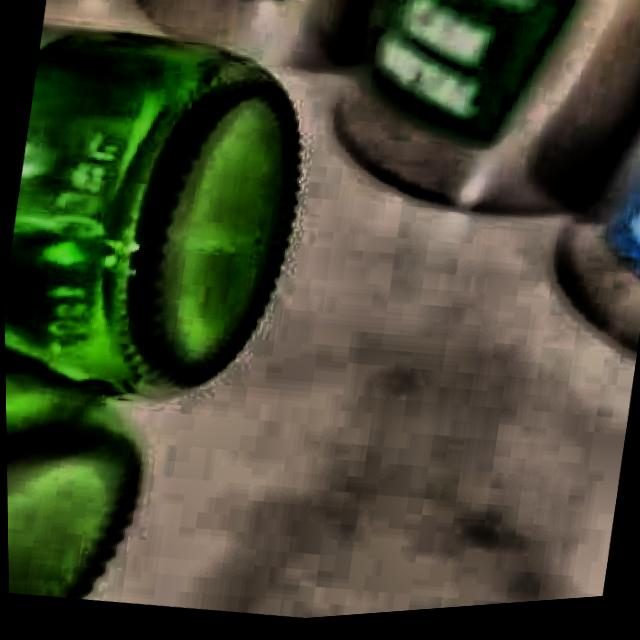glass: (3, 27, 299, 600)
